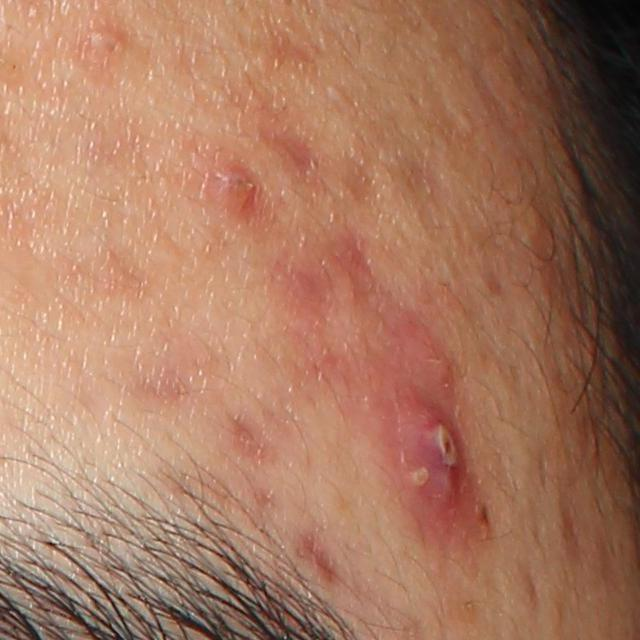atrophic_scar: (339, 146, 388, 207), (227, 402, 274, 465), (266, 126, 316, 185), (300, 532, 350, 587)
nodule: (366, 366, 498, 554)
papule: (385, 313, 463, 400), (200, 164, 267, 231), (83, 24, 128, 62)
